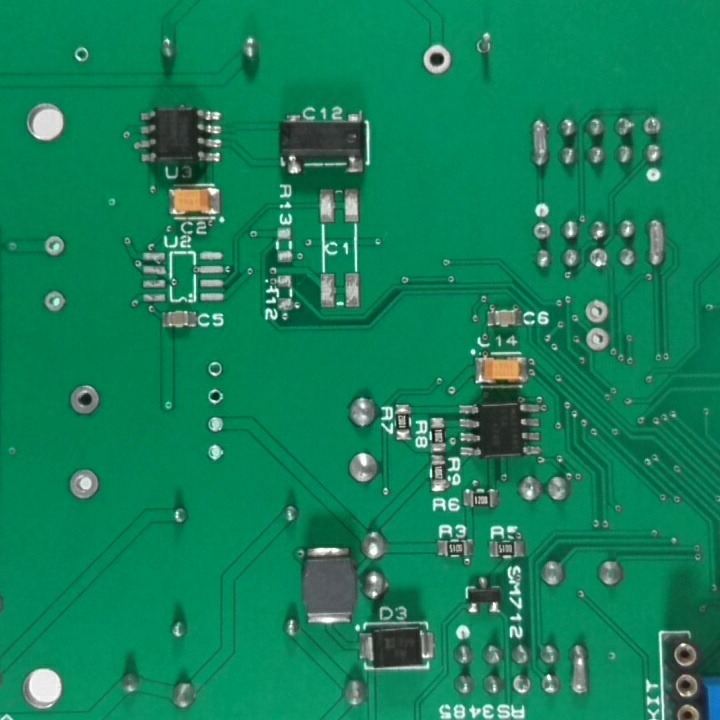F: (416, 42, 455, 78), (66, 464, 101, 503), (67, 380, 102, 417), (581, 298, 611, 328), (39, 290, 72, 315), (583, 326, 612, 352), (473, 29, 498, 59), (43, 235, 70, 260), (587, 247, 613, 271), (530, 220, 556, 243), (641, 115, 666, 138), (512, 672, 533, 699), (202, 415, 226, 435), (204, 387, 226, 408), (204, 443, 227, 463), (205, 358, 224, 381), (71, 46, 91, 67)
P: (568, 641, 591, 700), (644, 216, 669, 269), (527, 116, 550, 172)
